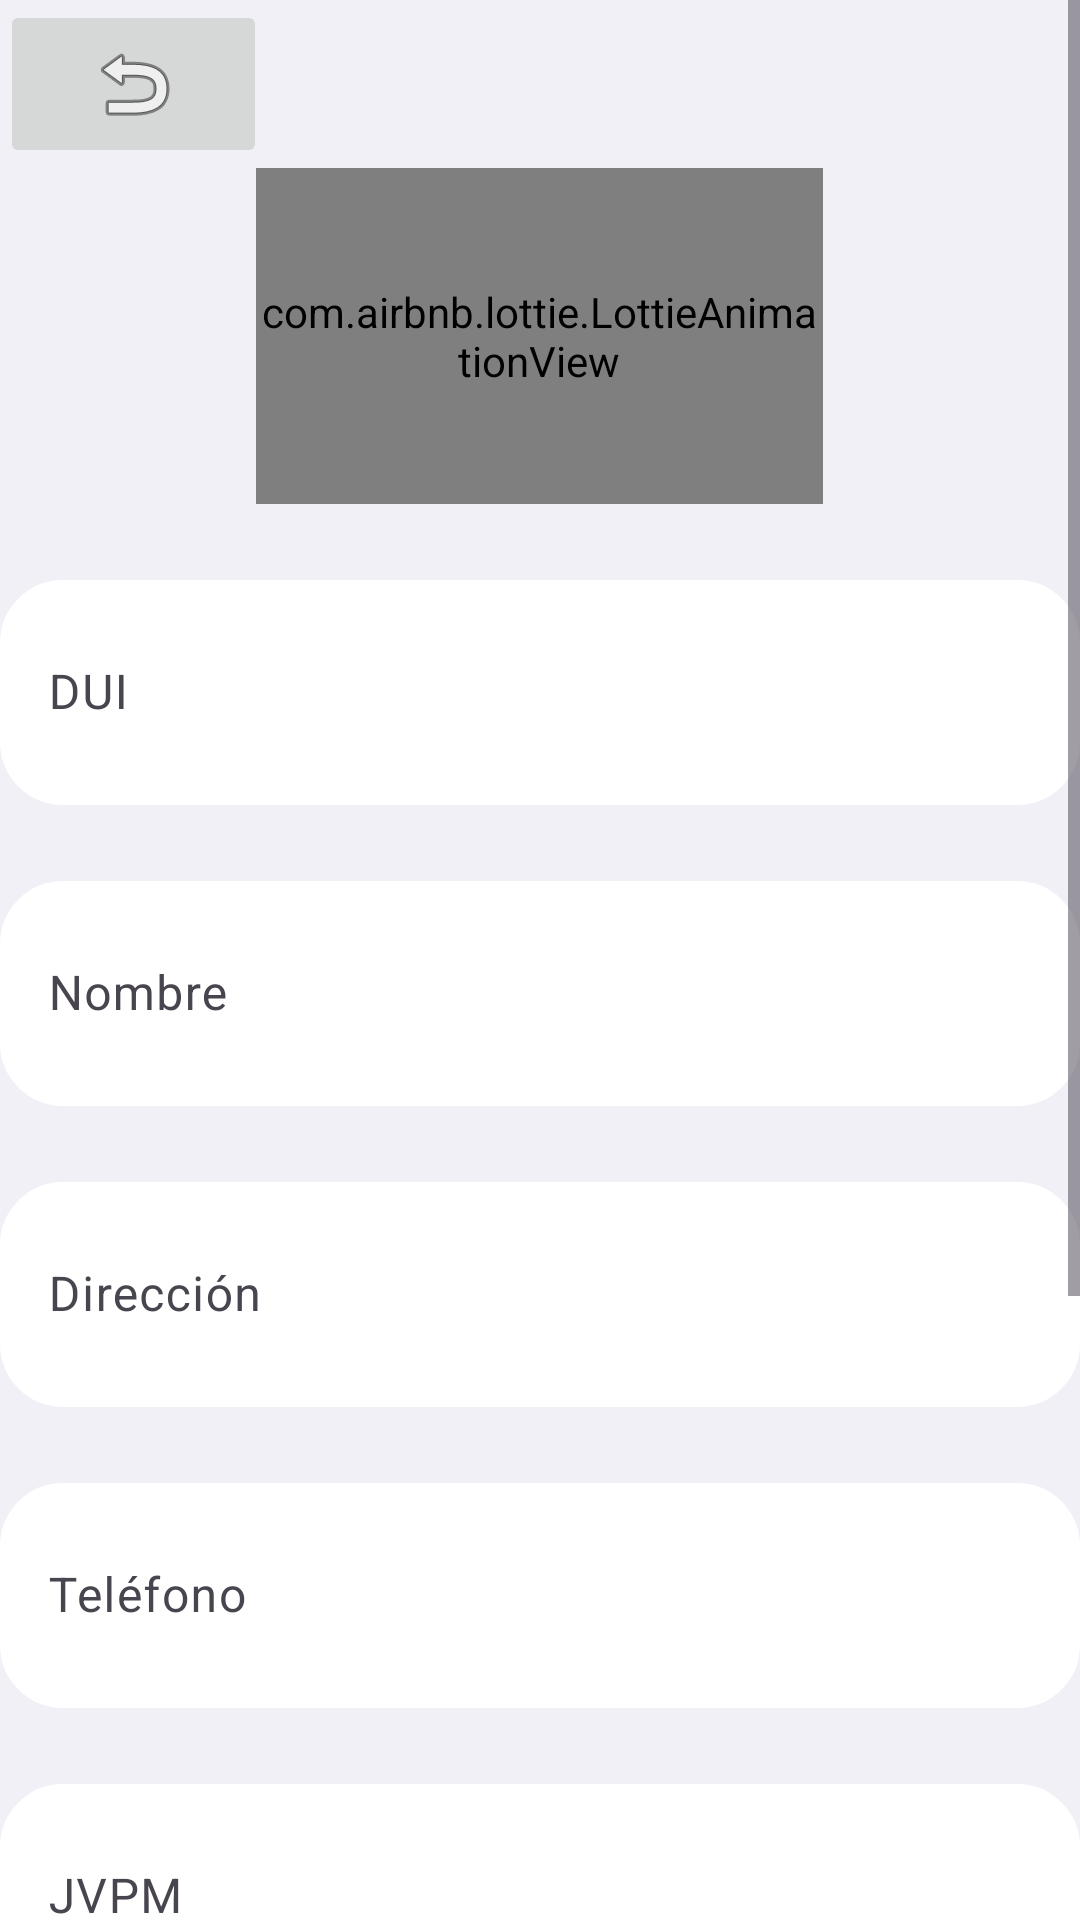

Named icons in this screenshot (1080×1920) and their bounding boxes, (x1, y1, x2, y2):
revert: (12, 18, 255, 150)
